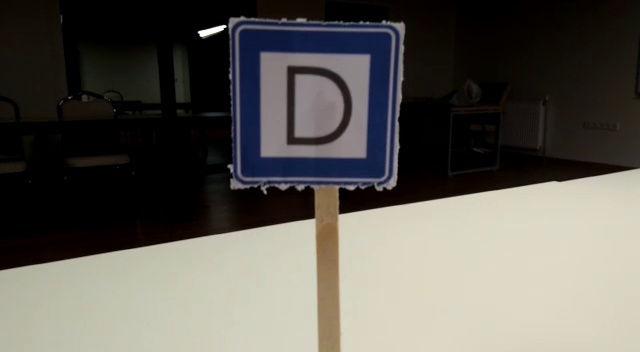durak: (229, 23, 400, 190)
